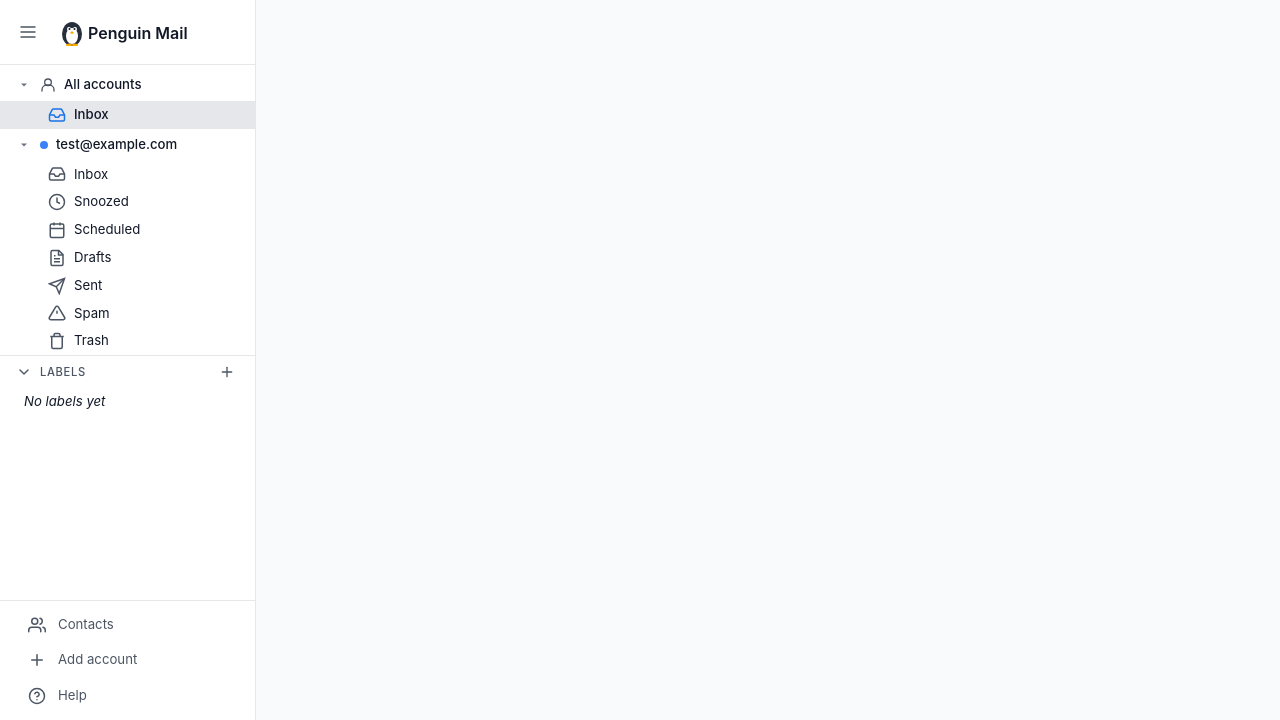
Test: Sidebar - Extended coverage › opens Help dialog when Help button is clicked
Click the button "Help".
click(128, 696)  # box [16, 680, 239, 712]
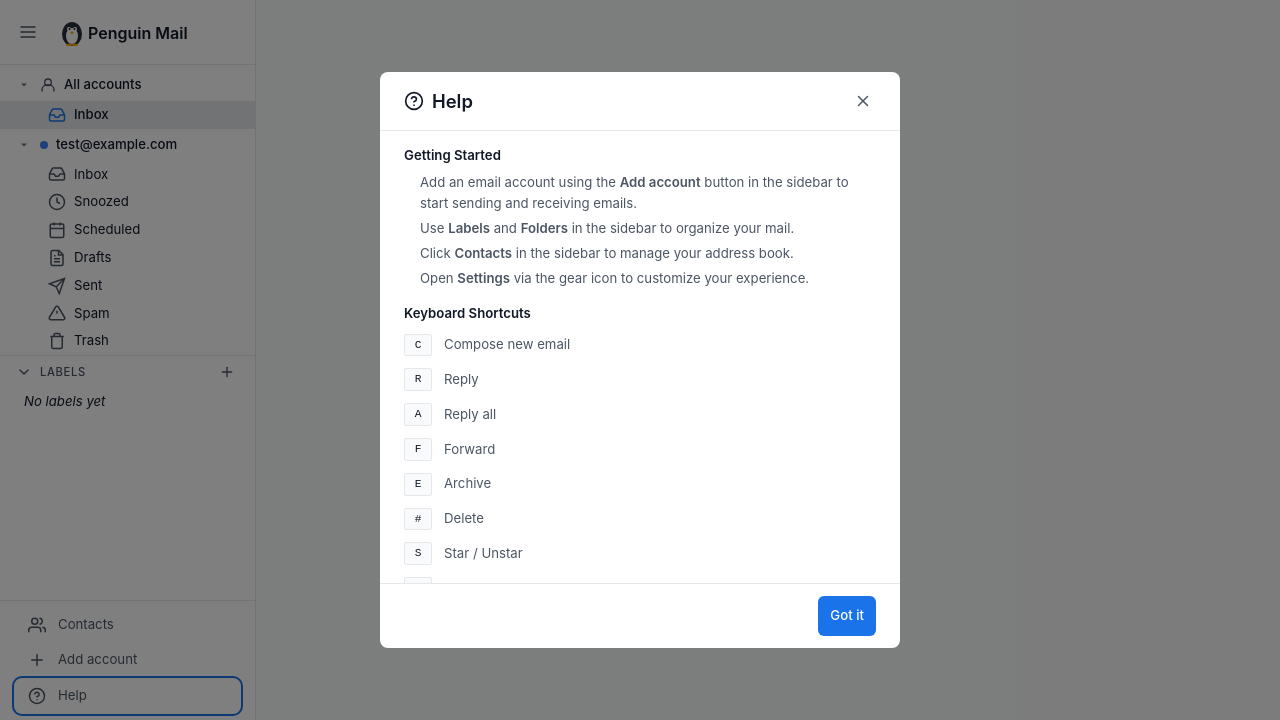
expect the dialog is shown: met, box [380, 72, 900, 648]
